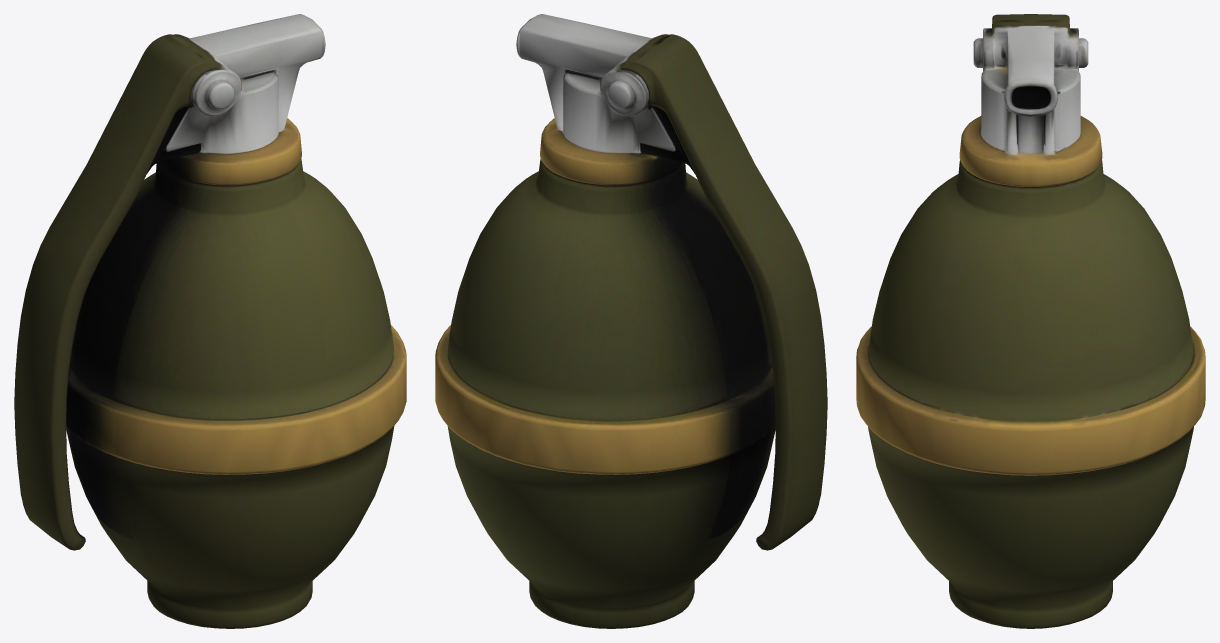
Rendered from grenade_d45ac7d5_v1.glb.
3 views of the same model, side by side, from view 1: azimuth 30°, elevation 25°; view 2: azimuth 150°, elevation 25°; view 3: azimuth 270°, elevation 25° (orthographic).
Visible parts, largest first — view 1: texture_pbr_20250901; view 2: texture_pbr_20250901; view 3: texture_pbr_20250901.
Part boxes in pixels (left/top/right/bottom): texture_pbr_20250901: left=14, top=14, right=406, bottom=628; texture_pbr_20250901: left=435, top=14, right=827, bottom=628; texture_pbr_20250901: left=856, top=14, right=1205, bottom=628.
Size of the model in its own units: 1.25 by 1.9 by 1.08.
Materials: 1 (1 with a texture image).
